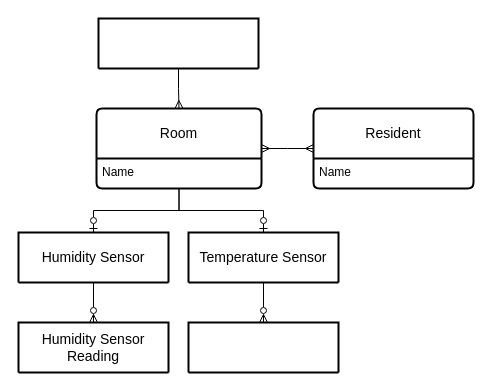
Some shapes in this 491 by 390 pixel diagram are drawn without their labels. Each missing label, with the centre of its shape:
"Home" belongs at (178,43).
"Temperature Sensor Reading" belongs at (263,347).
